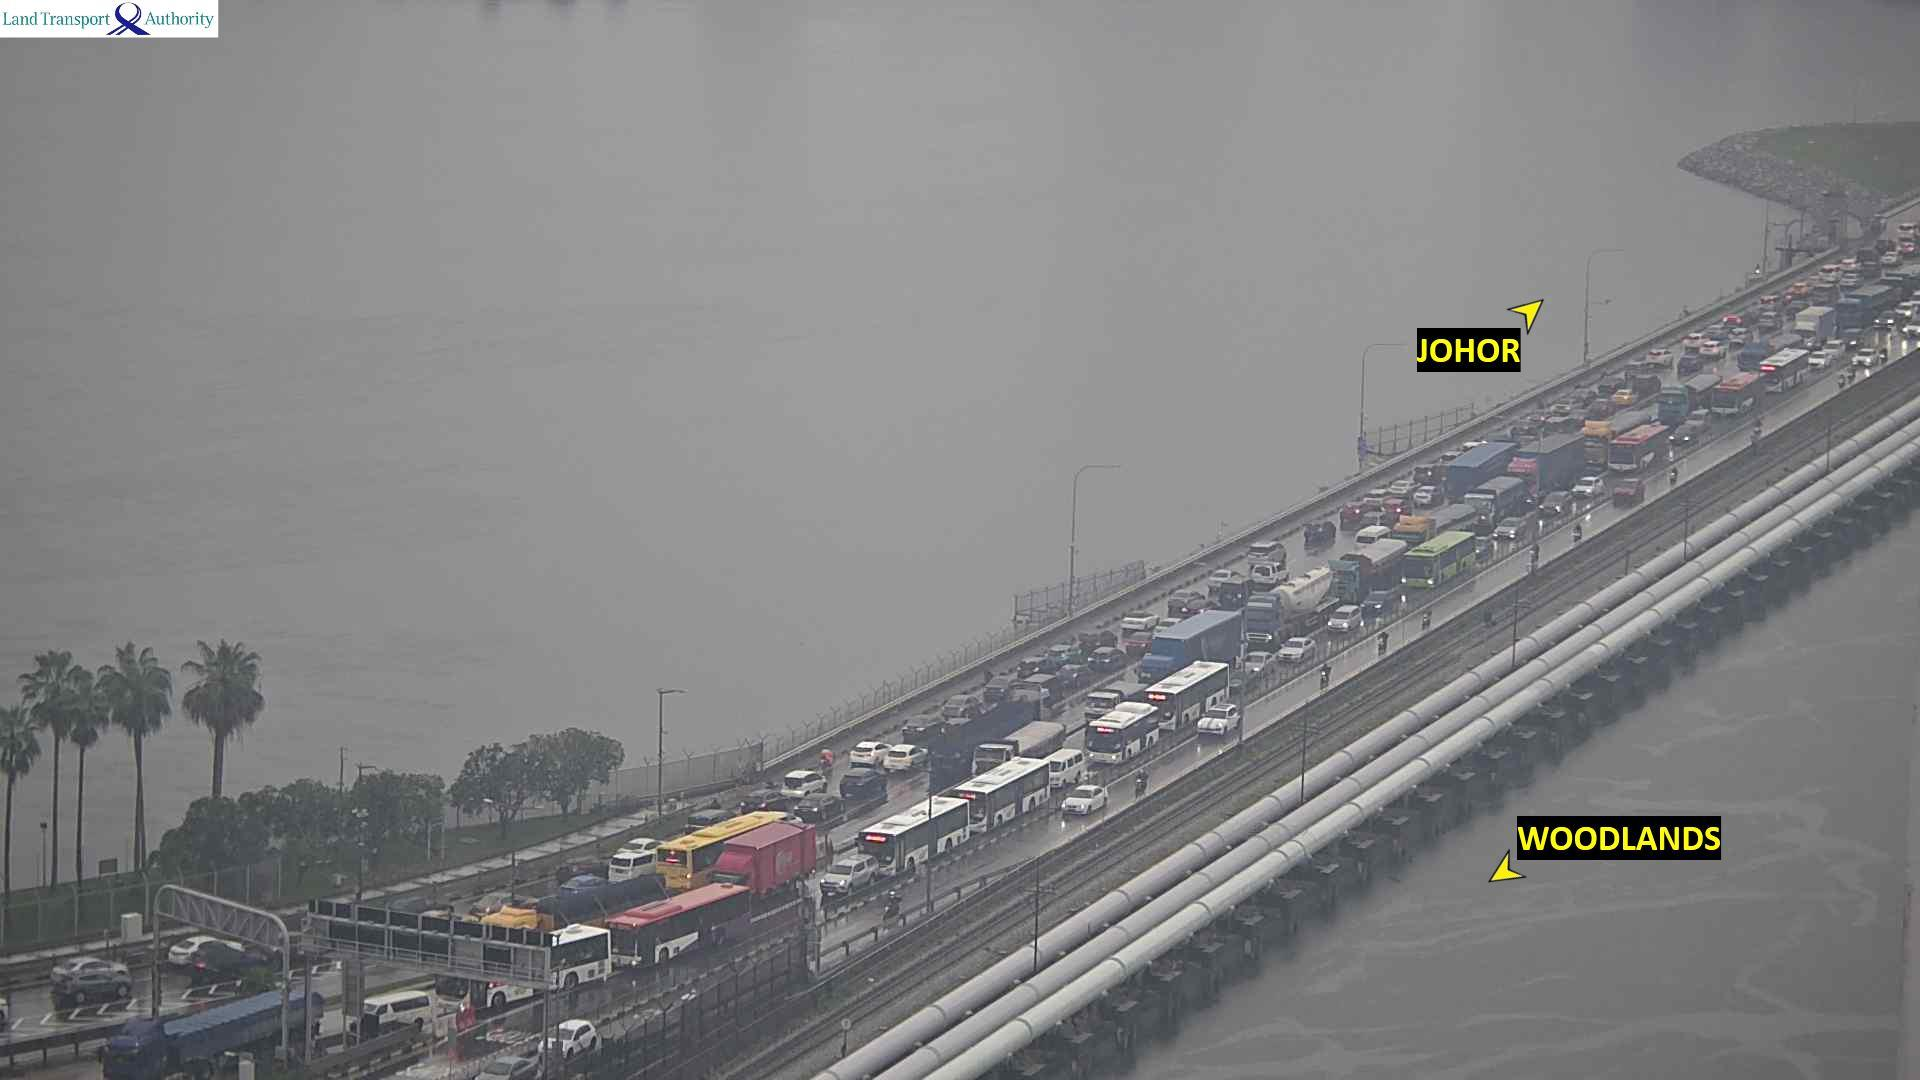vehicle-causeway-johor: (928, 690, 1052, 783), (51, 972, 127, 1007), (658, 837, 727, 872), (169, 932, 243, 964), (472, 891, 535, 915), (840, 767, 886, 796), (783, 767, 827, 795), (560, 874, 612, 895), (741, 790, 789, 812), (1087, 646, 1131, 670), (794, 798, 843, 819), (891, 741, 930, 767), (1089, 647, 1129, 670), (1246, 539, 1283, 563), (1250, 564, 1288, 587), (901, 713, 940, 735), (607, 852, 661, 866), (1116, 608, 1156, 626), (855, 740, 889, 761), (1305, 522, 1333, 547), (1058, 667, 1096, 684), (1170, 591, 1203, 611), (984, 674, 1011, 695), (1015, 658, 1051, 674), (1386, 479, 1422, 495), (1701, 338, 1727, 359), (947, 696, 985, 711), (1756, 310, 1784, 330), (1551, 396, 1582, 413), (1596, 377, 1625, 396), (1414, 487, 1444, 504), (1209, 568, 1237, 587), (1046, 646, 1072, 665), (1416, 465, 1440, 485), (1646, 349, 1672, 365), (1727, 327, 1754, 343), (1683, 332, 1705, 351), (1364, 488, 1389, 504), (1615, 388, 1636, 406), (1634, 373, 1656, 390), (1841, 272, 1863, 289), (1677, 356, 1701, 372), (1340, 502, 1367, 516), (1820, 264, 1840, 282), (1791, 281, 1816, 295), (1387, 500, 1410, 516), (1898, 224, 1920, 240), (1759, 290, 1776, 310), (1462, 439, 1484, 455), (1362, 510, 1387, 524), (1720, 314, 1743, 327), (1439, 452, 1460, 467), (1899, 243, 1920, 256), (1882, 251, 1900, 265)
vehicle-causeway-singapore: (103, 990, 320, 1080), (438, 926, 609, 1011), (612, 886, 749, 967), (857, 799, 968, 877), (1139, 616, 1242, 691), (1245, 564, 1342, 644), (713, 822, 815, 895), (957, 760, 1050, 831), (1150, 662, 1230, 727), (975, 724, 1064, 777), (1400, 533, 1474, 585), (1088, 707, 1159, 760), (1336, 541, 1406, 593), (1505, 450, 1589, 492), (1659, 371, 1721, 419), (1468, 475, 1524, 524), (1610, 426, 1671, 471), (1088, 682, 1146, 727), (823, 855, 877, 899), (539, 1022, 597, 1062), (1834, 287, 1888, 330), (363, 997, 434, 1029), (1762, 351, 1809, 393), (1742, 336, 1795, 372), (1712, 373, 1759, 411), (1063, 785, 1110, 818), (475, 1055, 537, 1080), (1046, 750, 1084, 787), (1201, 703, 1240, 736), (1796, 309, 1832, 340), (1327, 604, 1360, 632), (1237, 651, 1274, 675), (1613, 480, 1650, 504), (1282, 640, 1315, 663), (1667, 422, 1700, 444), (1575, 476, 1606, 497), (1362, 589, 1389, 615), (1542, 493, 1571, 516), (1498, 517, 1526, 539), (1130, 767, 1149, 794), (885, 891, 901, 922), (1822, 340, 1846, 355), (1853, 349, 1874, 365), (1809, 353, 1830, 368), (1898, 302, 1911, 322), (1833, 372, 1845, 390), (1846, 365, 1859, 381), (1753, 417, 1762, 439), (1878, 348, 1888, 364)
